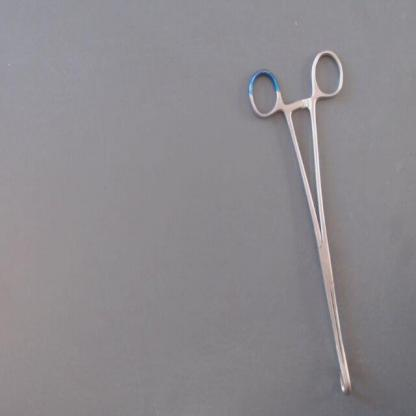Sponge Forceps: (241, 42, 360, 402)
